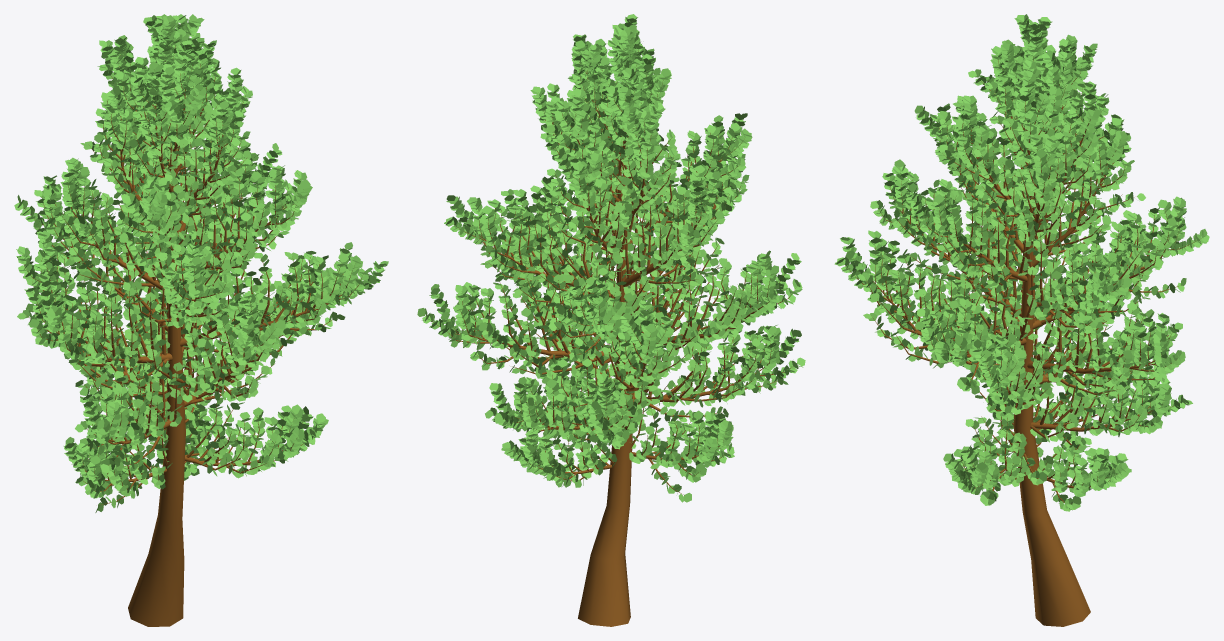
File: Tree.fbx
The picture shows the model from 3 angles, left to right: view 1: azimuth 30°, elevation 25°; view 2: azimuth 150°, elevation 25°; view 3: azimuth 270°, elevation 25°; orthographic projection. The views are drawn at different scales.
Visible parts, largest first — view 1: leaves, tree; view 2: leaves, tree; view 3: leaves, tree.
Part boxes in pixels (bbox=[...]): leaves: bbox=[14, 14, 388, 512]; tree: bbox=[23, 24, 361, 626]; leaves: bbox=[417, 14, 805, 502]; tree: bbox=[432, 49, 795, 626]; leaves: bbox=[834, 14, 1209, 511]; tree: bbox=[845, 57, 1201, 626].
Size of the model in its own units: 4.01 by 7.05 by 4.02.
